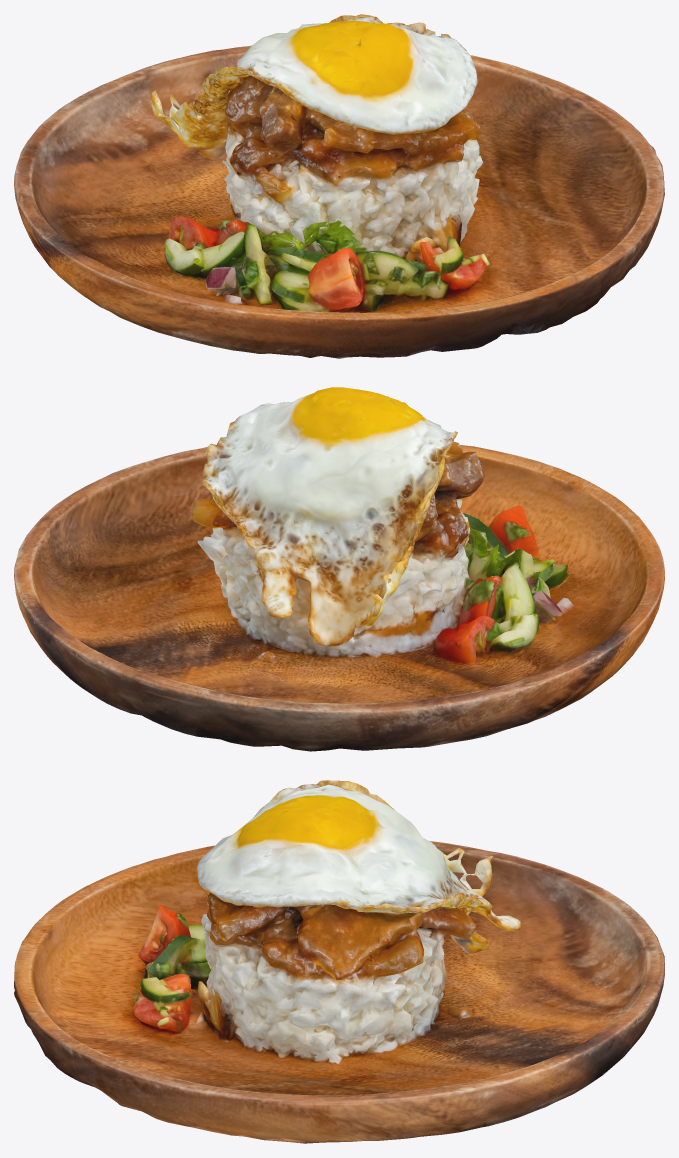
The model's file is filipino.glb.
3 views of the same model, one above another, from view 1: azimuth 30°, elevation 25°; view 2: azimuth 150°, elevation 25°; view 3: azimuth 270°, elevation 25° (orthographic).
Visible parts, largest first — view 1: Object_2; view 2: Object_2; view 3: Object_2.
Boxes of the visible parts, bbox=[...] form: Object_2: bbox=[14, 14, 664, 358]; Object_2: bbox=[14, 387, 664, 751]; Object_2: bbox=[14, 780, 664, 1143].
Bounding box in the file's own units: 0.4334 × 0.1605 × 0.4427.
1 material, 1 textured.
